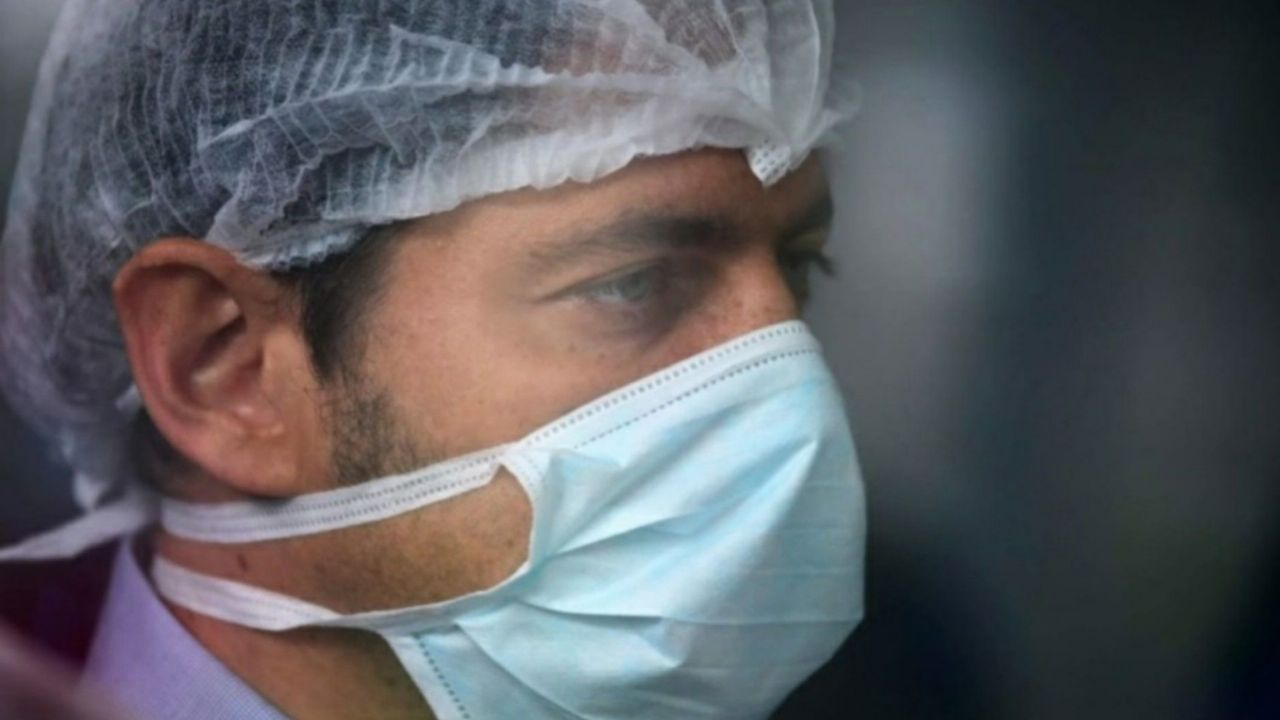barbijo: (101, 313, 892, 720)
